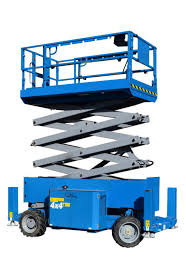Scissor Lift: (6, 30, 179, 247)
